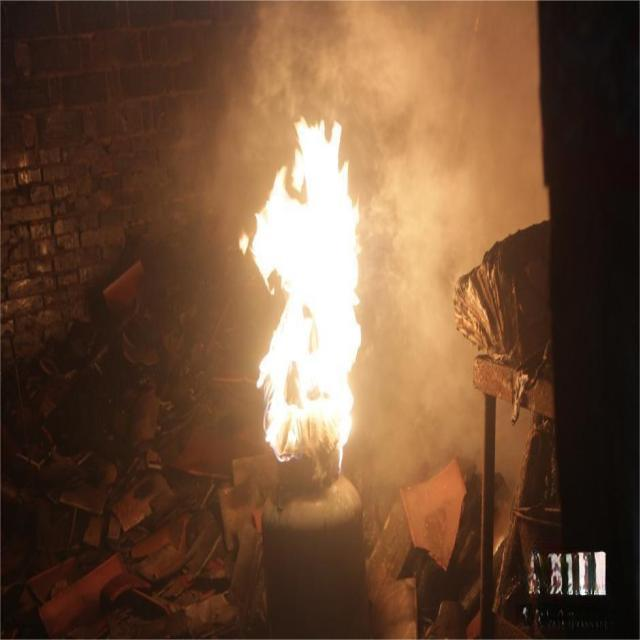Fire: (238, 113, 363, 473)
